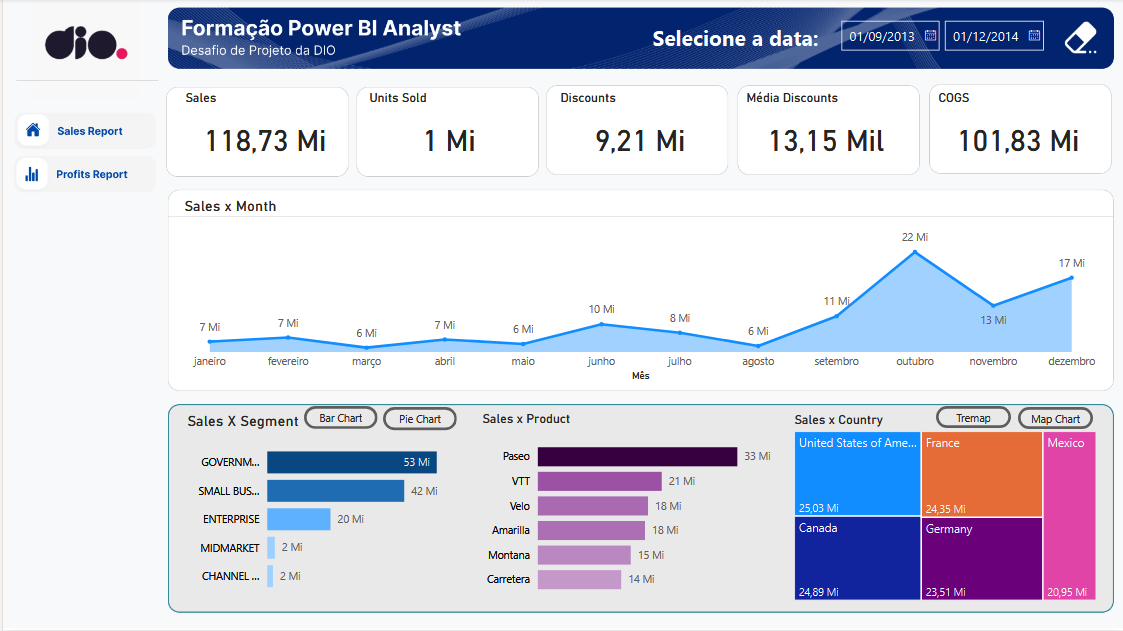

The dashboard page shown, as its layout file describes it:
{"tool":"powerbi","page":{"name":"Página 1","canvas":[1280,720],"ordinal":0},"visuals":[{"type":"textbox","box":[735.8,22.6,208.3,49.1],"z":0,"group":"g1"},{"type":"cardVisual","title":"Sales","fields":{"Data":["Sum(financials. Sales)"]},"box":[203.3,105.1,191.6,90.4],"z":0,"group":"g2"},{"type":"areaChart","fields":{"Category":["financials.Date.Variation.Hierarquia de datas.Mês"],"Y":["Sum(financials. Sales)"]},"box":[195.5,252.5,1064.9,188.6],"z":0},{"type":"treemap","title":"Sales x Country ","fields":{"Group":["financials.Country"],"Values":["Sum(financials. Sales)"]},"box":[898.1,471.9,354.4,218.7],"z":0,"group":"g4"},{"type":"actionButton","title":"Clean","box":[1202.4,14.7,58,57],"z":1000,"group":"g1"},{"type":"cardVisual","title":"Units Sold","fields":{"Data":["Sum(financials.Units Sold)"]},"box":[413.5,105.1,191.6,90.4],"z":1000,"group":"g2"},{"type":"clusteredBarChart","title":"Sales x Product","fields":{"Y":["Sum(financials. Sales)"],"Category":["financials.Product"]},"box":[541.9,471.2,349.1,219],"z":1000},{"type":"clusteredBarChart","title":"Sales X Segment ","fields":{"Y":["Sum(financials. Sales)"],"Category":["financials.Segment"]},"box":[205,471.3,332.4,218.7],"z":1125,"group":"g3"},{"type":"actionButton","title":"Botão - pie","box":[433.2,465.3,84.5,26.5],"z":1250,"group":"g3"},{"type":"actionButton","title":"Botão - bar","box":[343.8,464.3,83.9,26.2],"z":1500,"group":"g3"},{"type":"actionButton","title":"Botão - tremap","box":[1064.1,464.4,85.6,25.1],"z":1500,"group":"g4"},{"type":"slicer","fields":{"Values":["financials.Date"]},"box":[943.7,14.7,251.5,64.9],"z":2000},{"type":"cardVisual","title":"Discounts","fields":{"Data":["Sum(financials.Discounts)"]},"box":[631.6,105.1,191.6,90.4],"z":2000,"group":"g2"},{"type":"actionButton","title":"Botão - map","box":[1157.7,465.4,85.6,25.1],"z":2000,"group":"g4"},{"type":"cardVisual","title":"Média Discounts","fields":{"Data":["Avg(financials.Discounts)"]},"box":[843.8,105.1,191.6,90.4],"z":3000,"group":"g2"},{"type":"textbox","box":[202.4,221,333,38.3],"z":3000},{"type":"cardVisual","title":"COGS","fields":{"Data":["Sum(financials.COGS)"]},"box":[1061.9,105.1,191.6,90.4],"z":4000,"group":"g2"},{"type":"actionButton","title":"Navegador","box":[12.8,175.7,155.9,45.4],"z":4000},{"type":"group","id":"g1","title":"Filtro por data","box":[735.8,14.7,524.6,57],"z":5000},{"type":"group","id":"g2","title":"Cartões","box":[203.3,105.1,1050.1,90.4],"z":6000},{"type":"group","id":"g3","title":"Sales x Segmento","box":[204.3,464.3,333,226.8],"z":7000},{"type":"group","id":"g4","title":"Sales x País","box":[898.1,464.4,355.5,226.2],"z":8000}]}

Visuals, with their boxes on the page's 1280x720 design canvas (x1, y1, x2, y2). These are canvas units, not pixel positions in the 1123x631 screenshot, which may show the page scaled, cropped or inside an application window:
textbox: select_region(736, 23, 944, 72)
"Sales" cardVisual: select_region(203, 105, 395, 196)
areaChart - financials.Date.Variation.Hierarquia de datas.Mês x Sum(financials. Sales): select_region(196, 252, 1260, 441)
"Sales x Country " treemap: select_region(898, 472, 1252, 691)
"Clean" actionButton: select_region(1202, 15, 1260, 72)
"Units Sold" cardVisual: select_region(414, 105, 605, 196)
"Sales x Product" clusteredBarChart: select_region(542, 471, 891, 690)
"Sales X Segment " clusteredBarChart: select_region(205, 471, 537, 690)
"Botão - pie" actionButton: select_region(433, 465, 518, 492)
"Botão - bar" actionButton: select_region(344, 464, 428, 490)
"Botão - tremap" actionButton: select_region(1064, 464, 1150, 490)
slicer - financials.Date: select_region(944, 15, 1195, 80)
"Discounts" cardVisual: select_region(632, 105, 823, 196)
"Botão - map" actionButton: select_region(1158, 465, 1243, 490)
"Média Discounts" cardVisual: select_region(844, 105, 1035, 196)
textbox: select_region(202, 221, 535, 259)
"COGS" cardVisual: select_region(1062, 105, 1254, 196)
"Navegador" actionButton: select_region(13, 176, 169, 221)
"Filtro por data" group: select_region(736, 15, 1260, 72)
"Cartões" group: select_region(203, 105, 1253, 196)
"Sales x Segmento" group: select_region(204, 464, 537, 691)
"Sales x País" group: select_region(898, 464, 1254, 691)
